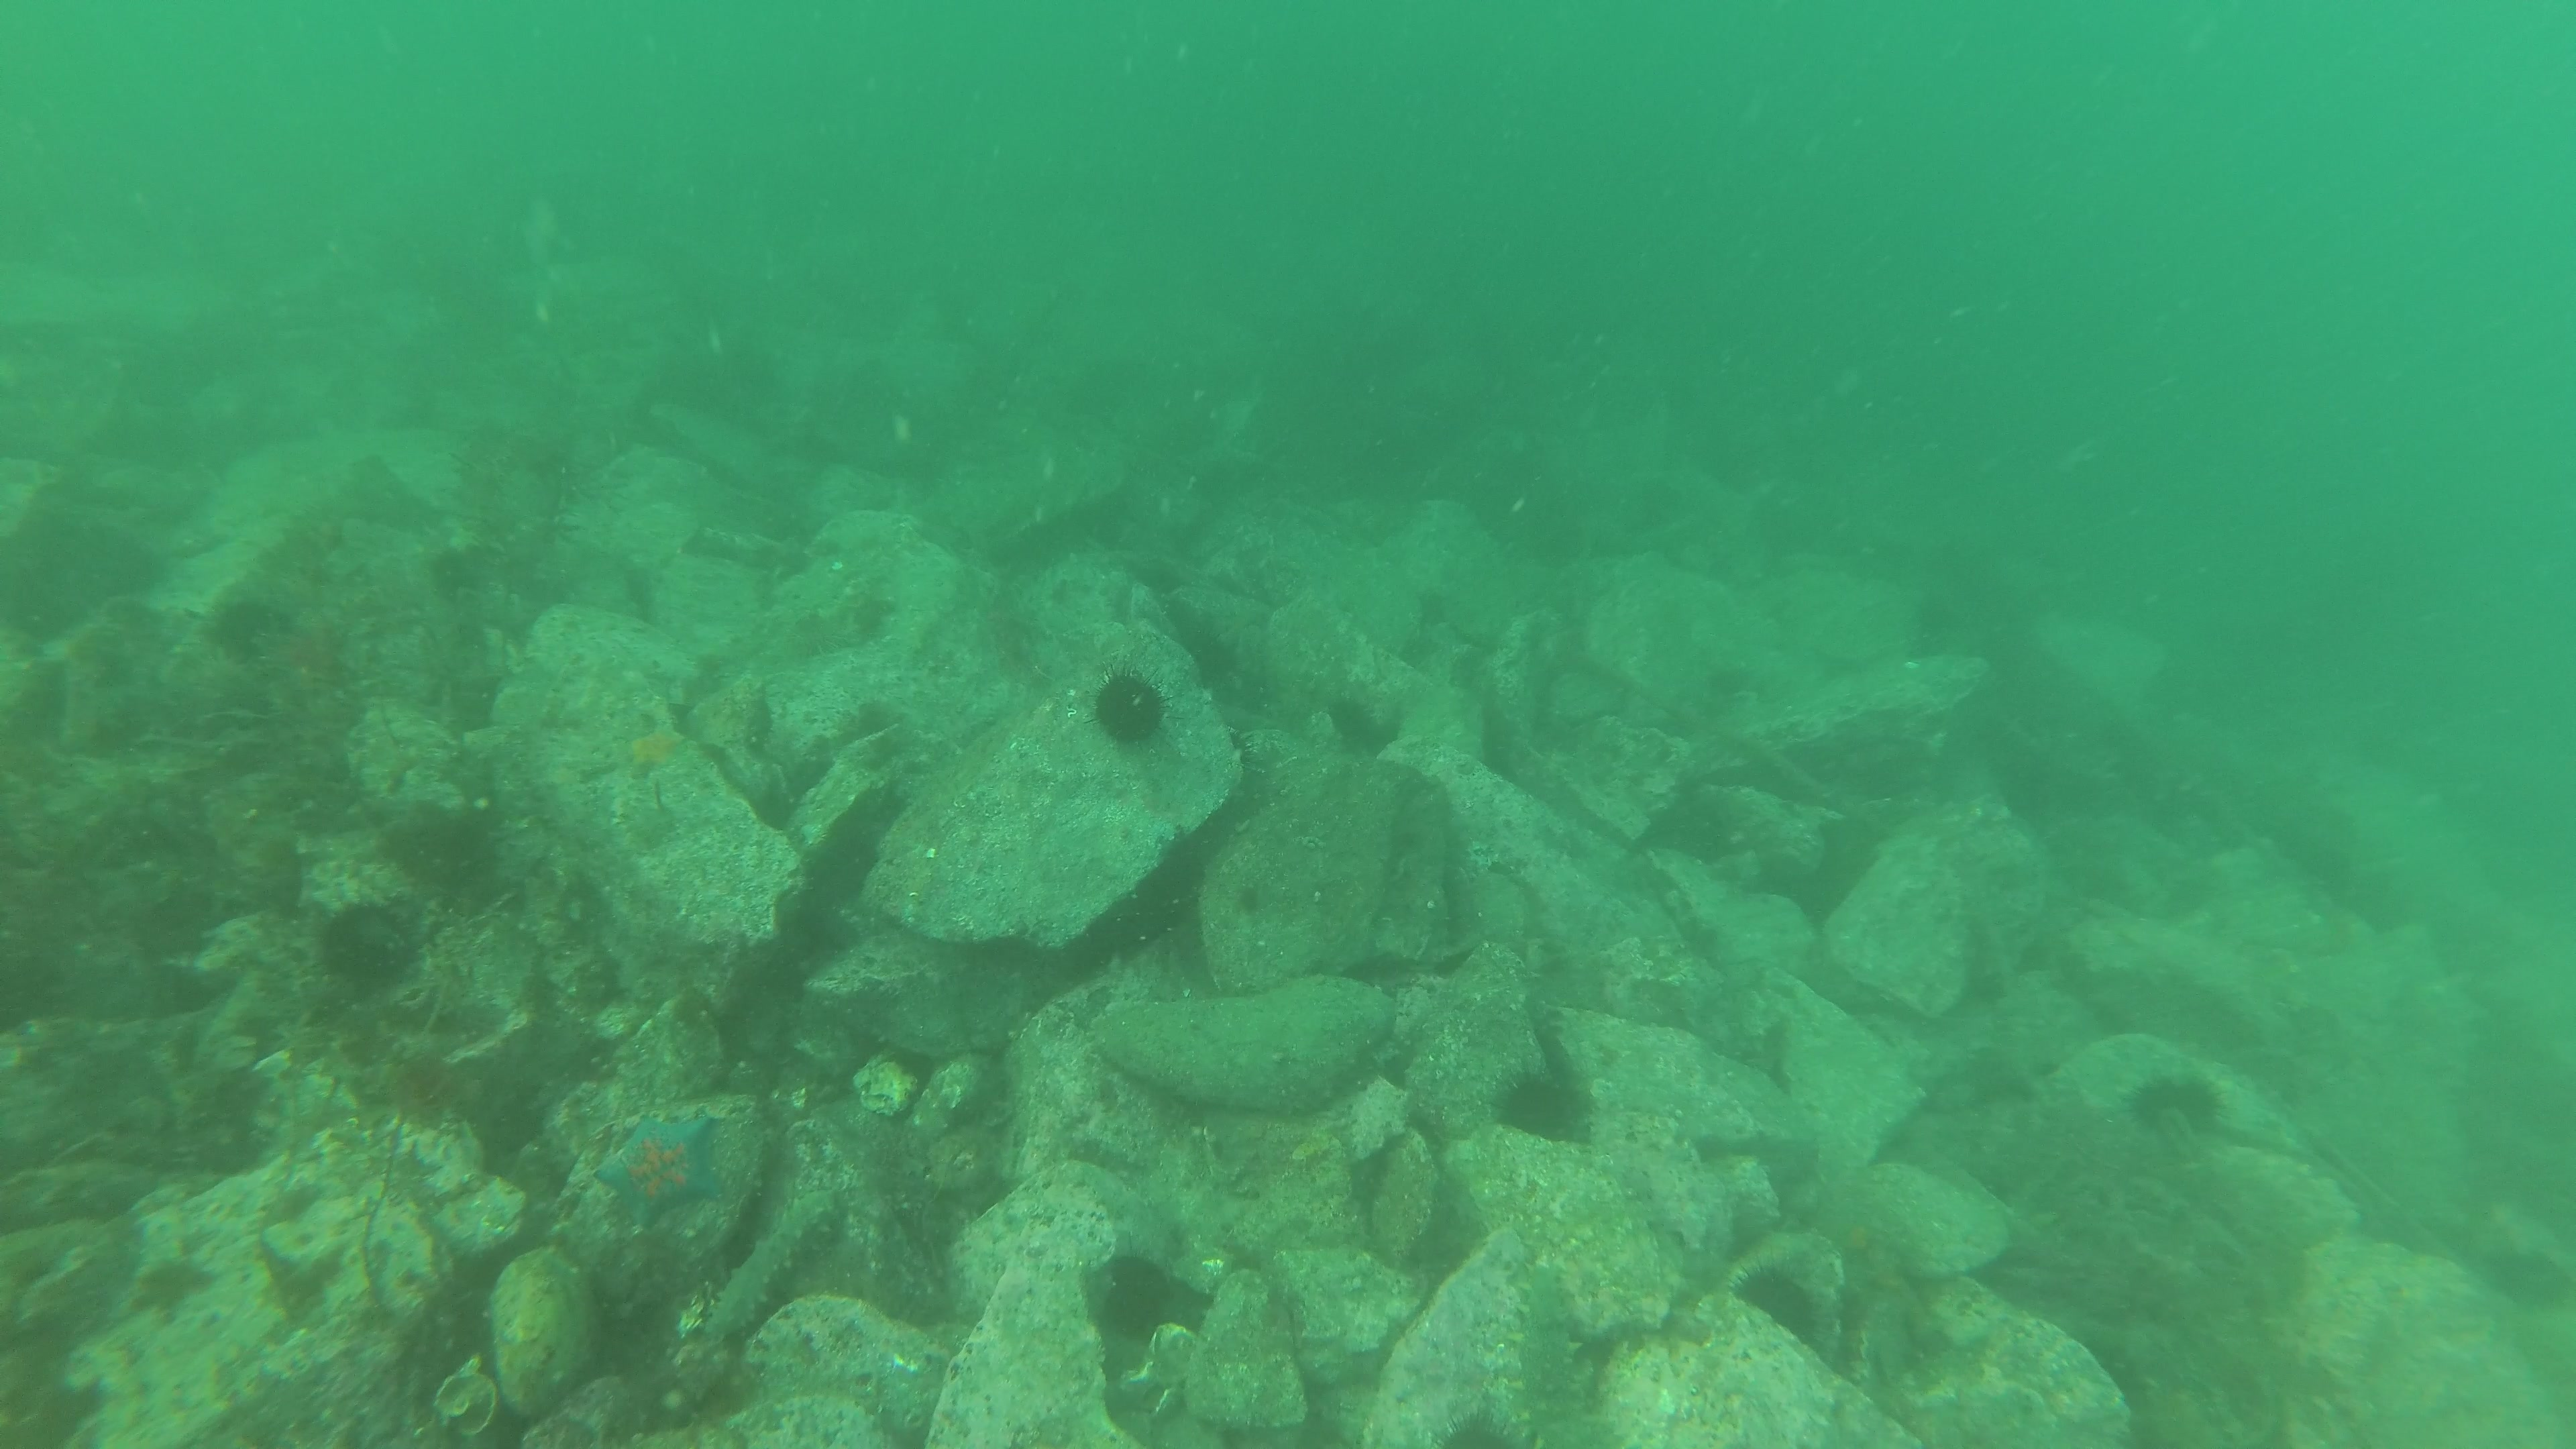echinus: (303, 901, 425, 994), (1723, 1246, 1815, 1353), (1491, 1069, 1601, 1150), (1088, 676, 1185, 755), (2132, 1069, 2226, 1143), (1100, 1251, 1177, 1341), (1175, 605, 1242, 699), (1327, 695, 1385, 747)
holothurian: (692, 1189, 858, 1359), (1950, 883, 2054, 1104), (1504, 1265, 1606, 1449)
starfish: (593, 1104, 736, 1224), (609, 715, 692, 778)
